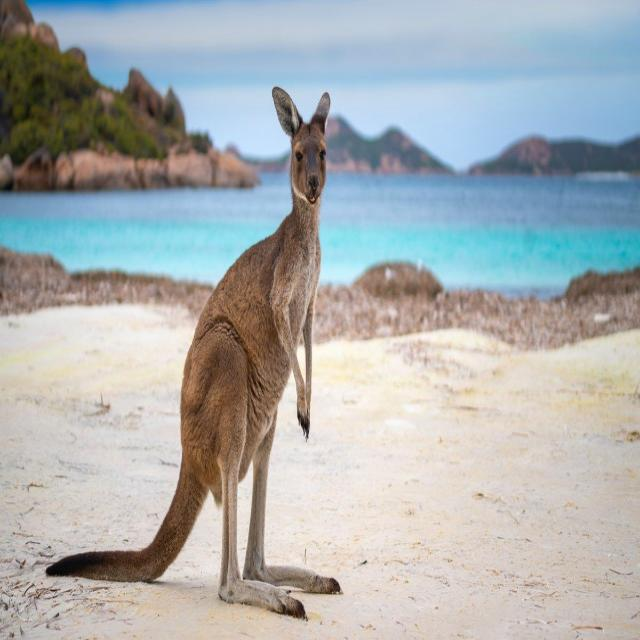kangaroo: (47, 87, 341, 618)
